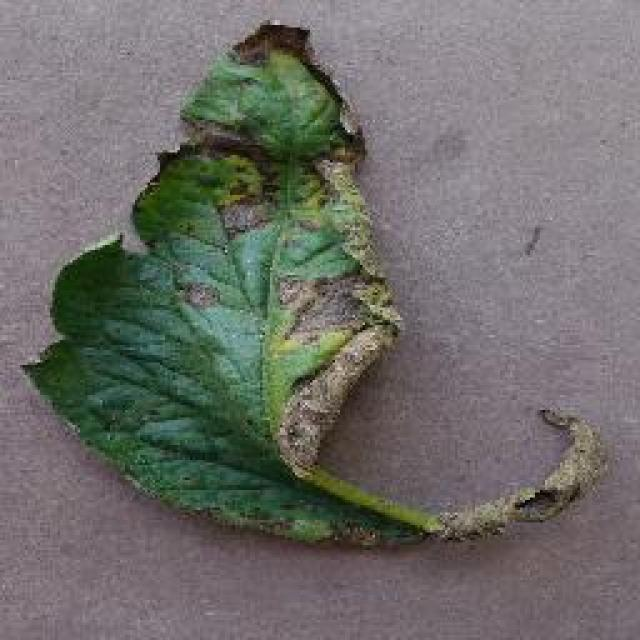Tomato Early blight leaf: (26, 18, 606, 557)
